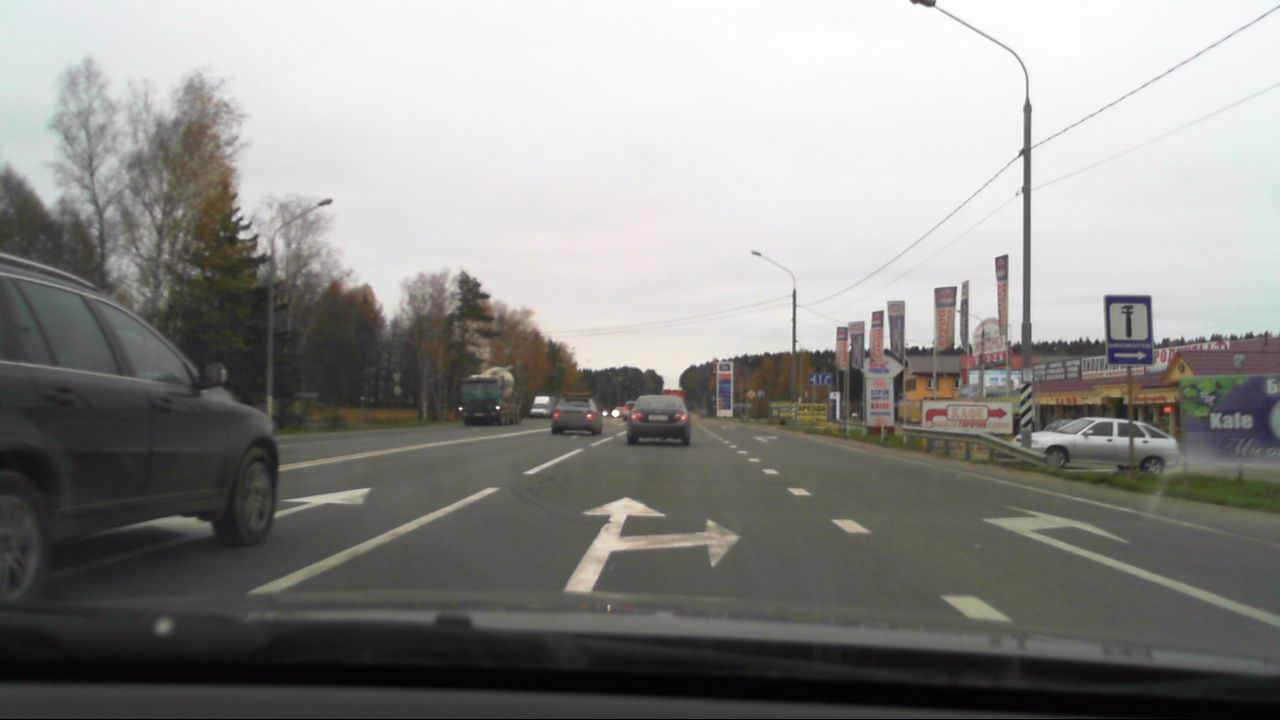One-Way Traffic: (1108, 349, 1153, 363)
